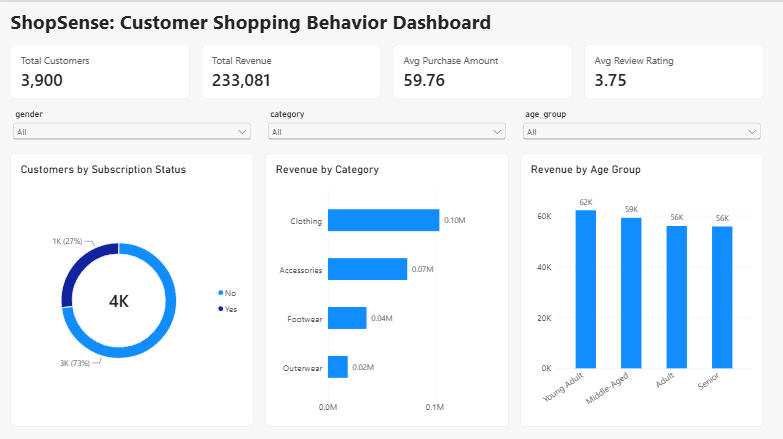

Layout of this report page (visuals, bound fields, positions):
{"tool":"powerbi","page":{"name":"Page 1","canvas":[1920,1080],"ordinal":0},"visuals":[{"type":"cardVisual","fields":{"Data":["customer.Total Customers Display"]},"box":[20,70,295,90],"z":1},{"type":"cardVisual","fields":{"Data":["customer.Avg Purchase Amount"]},"box":[650,70,295,90],"z":2},{"type":"cardVisual","fields":{"Data":["customer.Avg Review Rating"]},"box":[965,70,295,90],"z":3},{"type":"cardVisual","fields":{"Data":["customer.Total Revenue"]},"box":[335,70,295,90],"z":4},{"type":"donutChart","title":"Customers by Subscription Status","fields":{"Category":["customer.subscription_status"],"Y":["customer.Total Customers"]},"box":[20,250,400,450],"z":5},{"type":"clusteredBarChart","title":"Revenue by Category","fields":{"Category":["customer.category"],"Y":["customer.Total Revenue"]},"box":[440,250,400,450],"z":7},{"type":"clusteredColumnChart","title":"Revenue by Age Group","fields":{"Category":["customer.age_group"],"Y":["customer.Total Revenue"]},"box":[860,250,400,450],"z":8},{"type":"slicer","fields":{"Values":["customer.gender"]},"box":[20,175,400,60],"z":9},{"type":"slicer","fields":{"Values":["customer.category"]},"box":[440,175,400,60],"z":10},{"type":"slicer","fields":{"Values":["customer.age_group"]},"box":[860,175,400,60],"z":11},{"type":"textbox","box":[20,10,1240,50],"z":12}]}

Visuals, with their boxes in screenshot pixels (x1, y1, x2, y2), scaled from the page's 1920x1080 canvas onto the 783x439 screenshot:
cardVisual - customer.Total Customers Display: region(8, 28, 128, 65)
cardVisual - customer.Avg Purchase Amount: region(265, 28, 385, 65)
cardVisual - customer.Avg Review Rating: region(394, 28, 514, 65)
cardVisual - customer.Total Revenue: region(137, 28, 257, 65)
"Customers by Subscription Status" donutChart: region(8, 102, 171, 285)
"Revenue by Category" clusteredBarChart: region(179, 102, 343, 285)
"Revenue by Age Group" clusteredColumnChart: region(351, 102, 514, 285)
slicer - customer.gender: region(8, 71, 171, 96)
slicer - customer.category: region(179, 71, 343, 96)
slicer - customer.age_group: region(351, 71, 514, 96)
textbox: region(8, 4, 514, 24)
